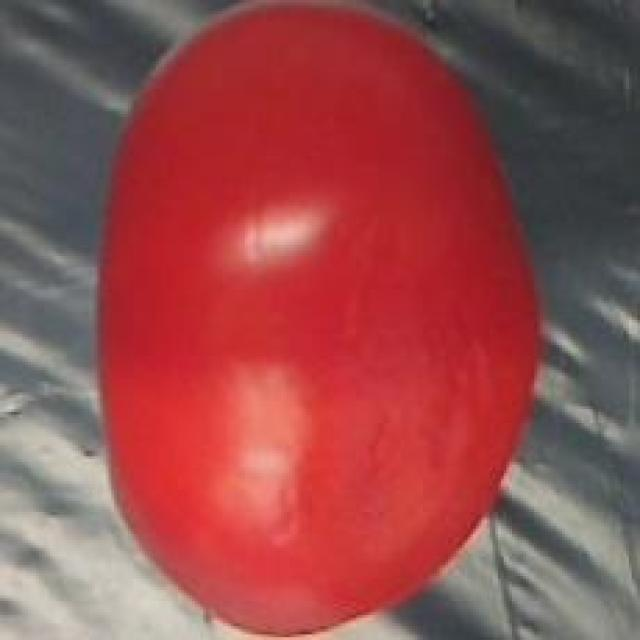overripe tomato: (58, 0, 551, 640)
